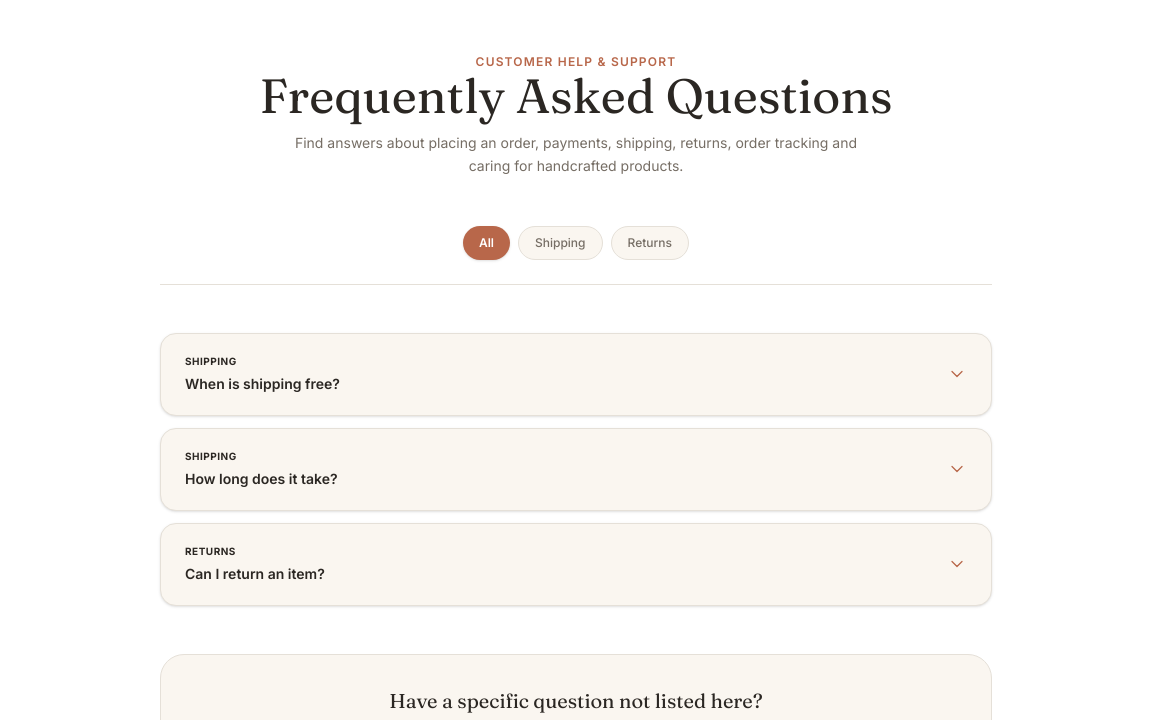
Test case: FAQ page › renders populated entries, filters by category and expands an answer with live values
Expected: the text "Can I return an item?" is shown, [185,564,325,582]
Click the text "When is shipping free?": (262, 383) [185,374,340,392]
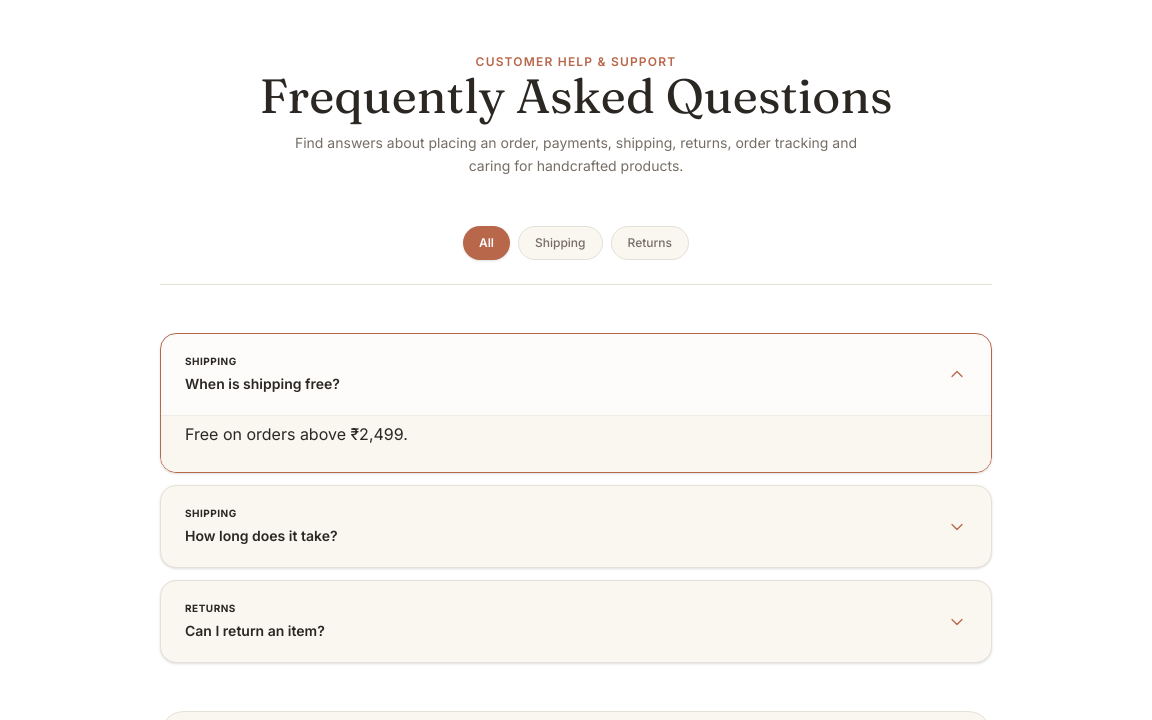
Expected: the text "Free on orders above ₹2,499." is shown, [185,424,408,444]
Click the button "Returns": (650, 242) [610,226,689,260]
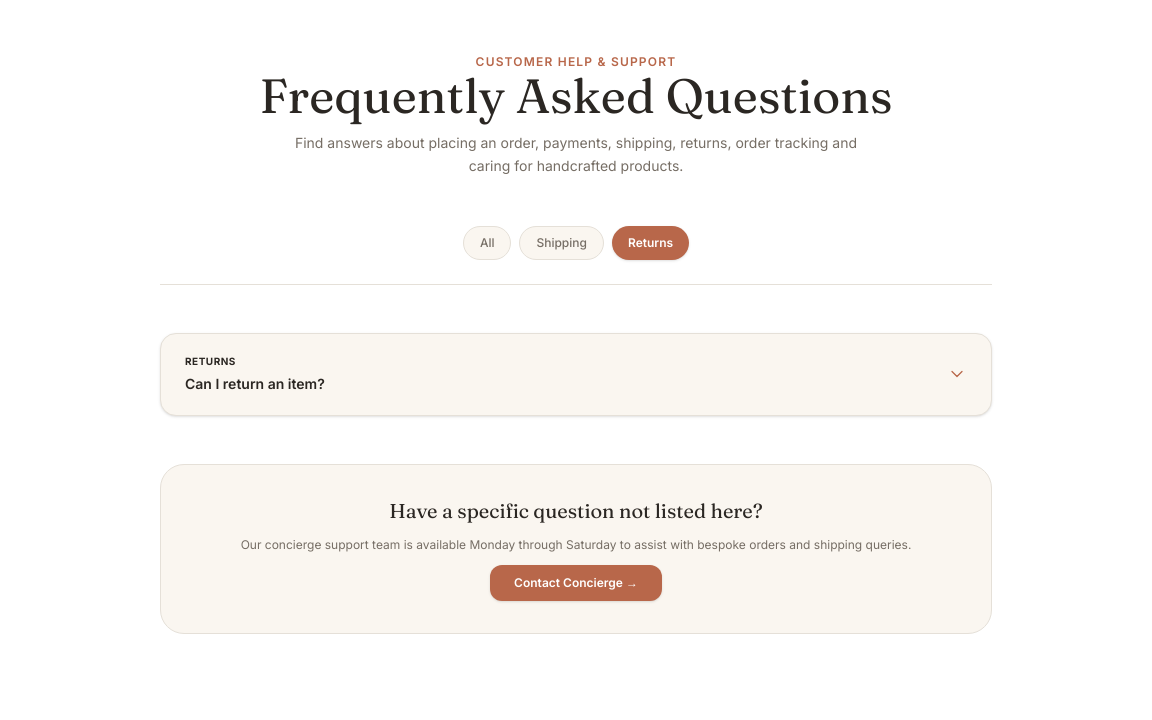
Expected: the text "Can I return an item?" is shown, [185,374,325,392]
Expected: the button "When is shipping free?" is gone
